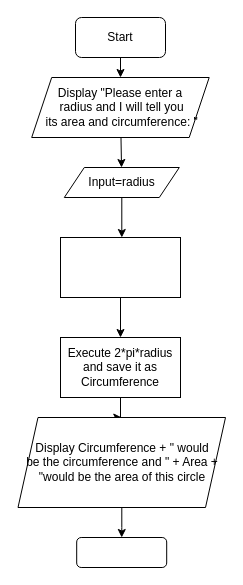
This 243x585 diagram has some shape labels left out. The centre of each missing label's shape, as x and y in pixels:
"End" goes at [121,552].
"Execute pi*(radius)^2 and save it as Area" goes at [120,267].
